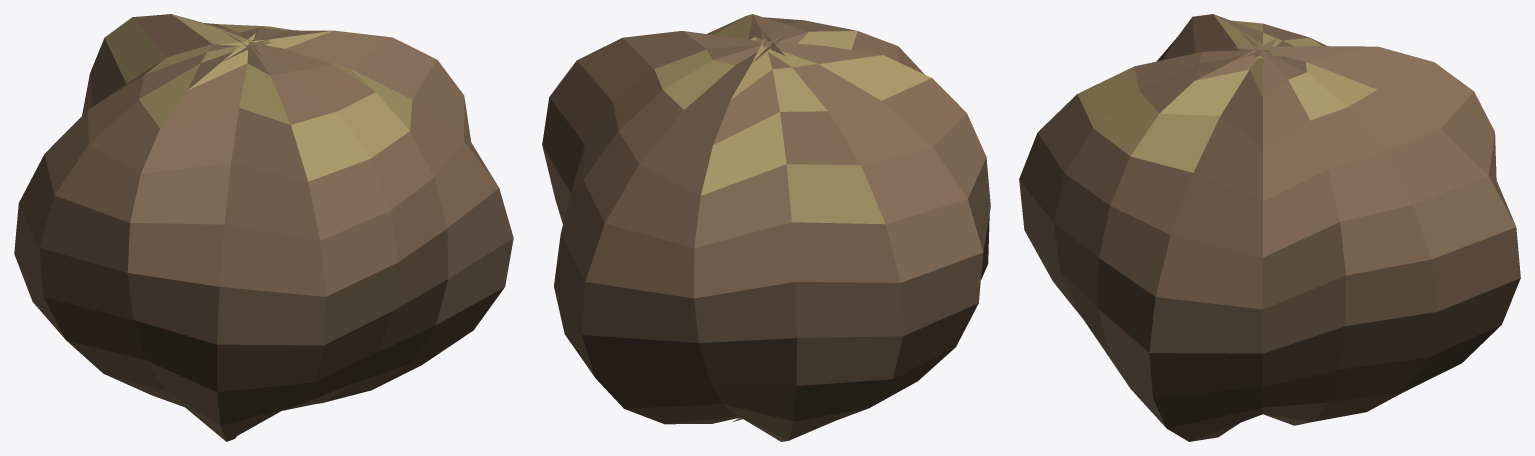
The model's file is Truffle.glb.
3 renders of one model, left to right at view 1: azimuth 30°, elevation 25°; view 2: azimuth 150°, elevation 25°; view 3: azimuth 270°, elevation 25°, orthographic. The views are drawn at different scales.
Parts seen in each view (by area): view 1: Truffle; view 2: Truffle; view 3: Truffle.
Part boxes in pixels (x1=…): Truffle: x1=14, y1=14, x2=513, y2=441; Truffle: x1=542, y1=14, x2=990, y2=441; Truffle: x1=1019, y1=14, x2=1520, y2=441.
Size of the model in its own units: 0.5407 by 0.425 by 0.5448.
